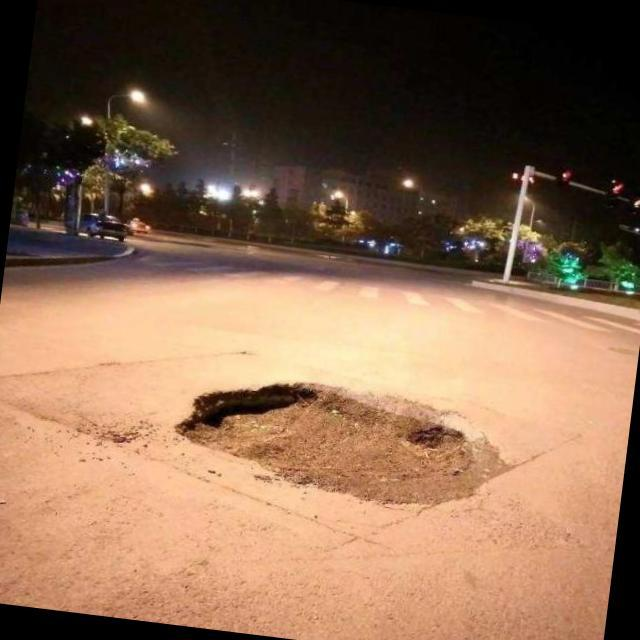Pothole: (174, 383, 509, 504)
